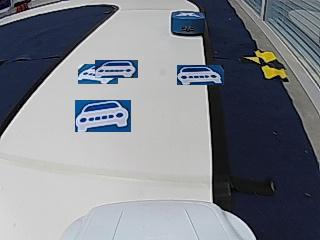prop: (171, 11, 205, 37)
